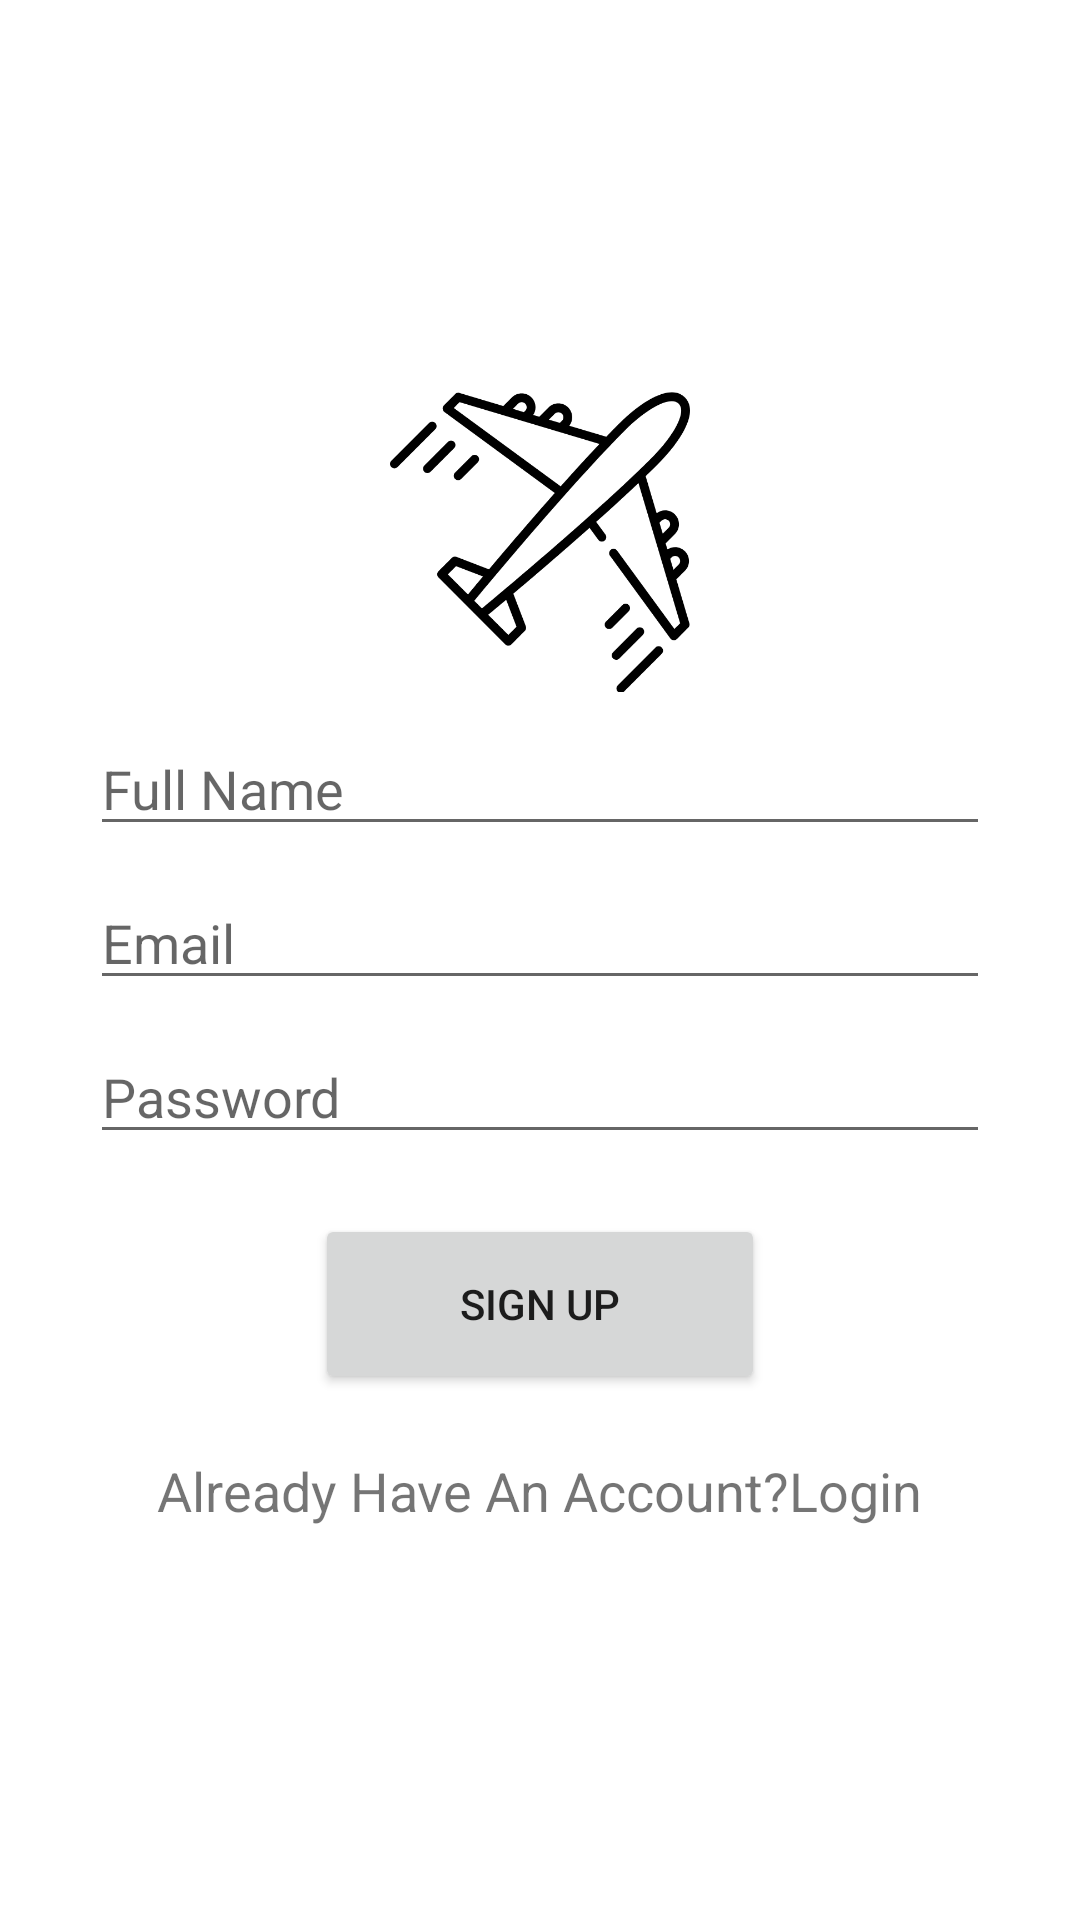

Icons on this 1080px×1920px Android screen, each with its box as (x1, y1, x2, y2):
airplane: (390, 392, 690, 692)
